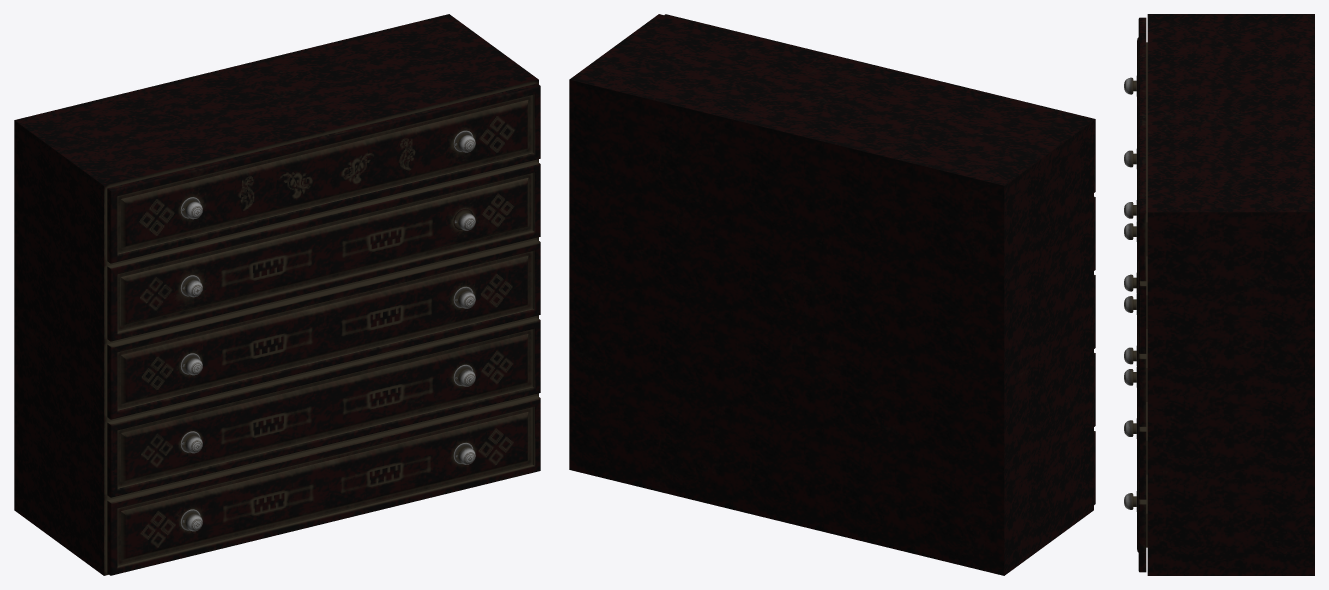
The model's file is drawer_the_closet_wooden_-_2mb.glb.
The picture shows the model from 3 angles, left to right: view 1: azimuth 30°, elevation 25°; view 2: azimuth 150°, elevation 25°; view 3: azimuth 270°, elevation 25°; orthographic projection. The views are drawn at different scales.
Visible parts, largest first — view 1: Symmetry; view 2: Symmetry; view 3: Symmetry.
Boxes of the visible parts, x1=… form: Symmetry: x1=14, y1=14, x2=540, y2=575; Symmetry: x1=569, y1=14, x2=1095, y2=575; Symmetry: x1=1124, y1=14, x2=1314, y2=575.
Bounding box in the file's own units: 1.4 × 1.2 × 0.5703.
1 material, 1 textured.
